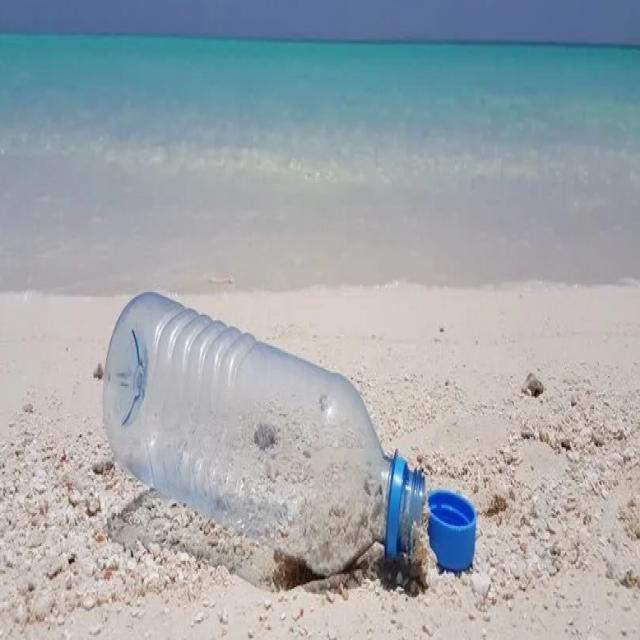Plastic Bottle: (100, 285, 478, 599)
